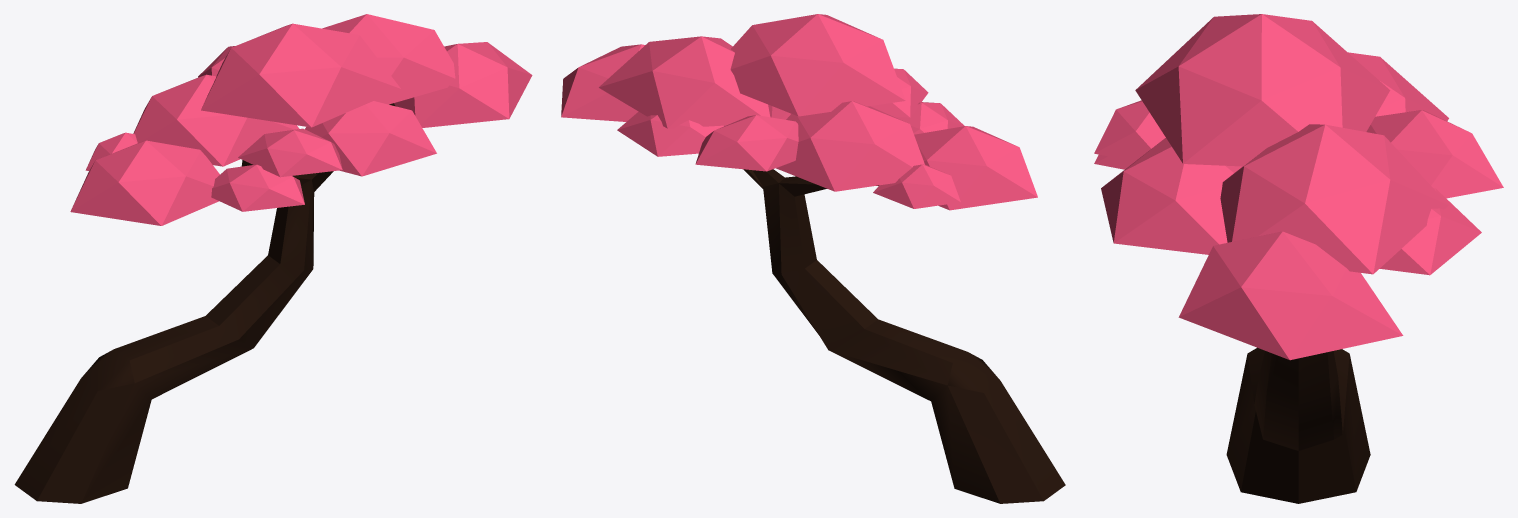
Rendered from Sakura_TROIS.FBX.
The picture shows the model from 3 angles, left to right: view 1: azimuth 30°, elevation 25°; view 2: azimuth 150°, elevation 25°; view 3: azimuth 270°, elevation 25°; orthographic projection. The views are drawn at different scales.
Visible parts, largest first — view 1: Cylinder001; view 2: Cylinder001; view 3: Cylinder001.
Boxes of the visible parts, x1,y1,x2,y2 form: Cylinder001: (14,14,532,503); Cylinder001: (561,14,1065,503); Cylinder001: (1094,14,1503,503).
Size of the model in its own units: 563 by 446 by 277.
